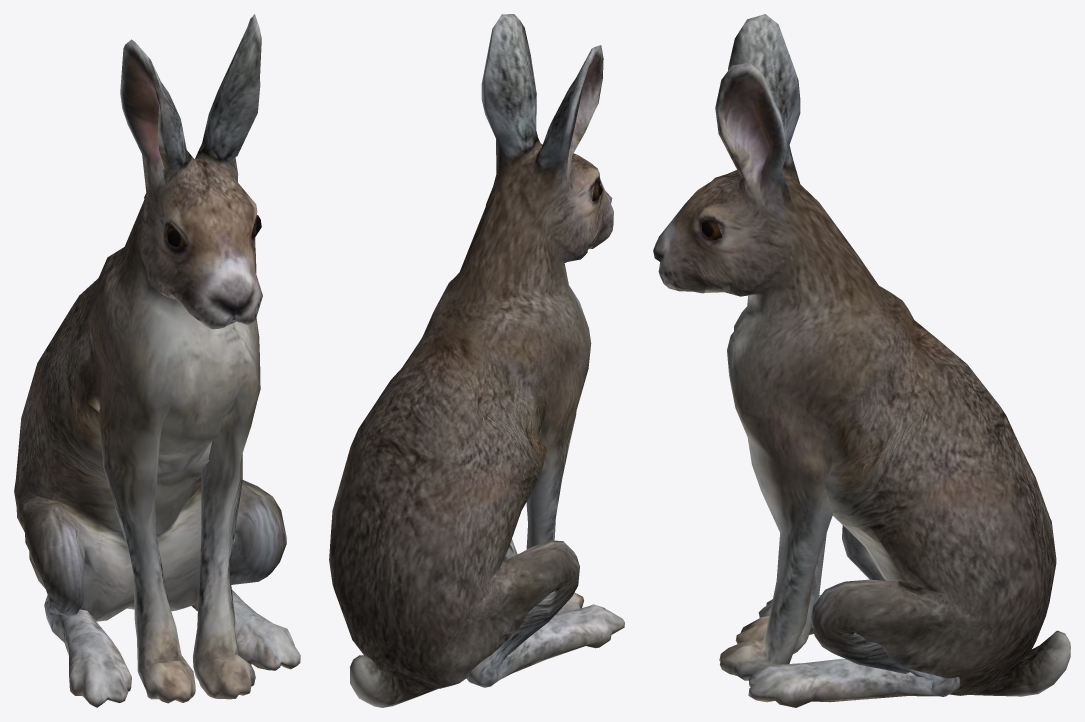
File: rabbit.glb
3 renders of one model, left to right at view 1: azimuth 30°, elevation 25°; view 2: azimuth 150°, elevation 25°; view 3: azimuth 270°, elevation 25°, orthographic. The views are drawn at different scales.
Parts seen in each view (by area): view 1: Rabbit001_applied_clean_M_Rabbit_0_M_Rabbit_0; view 2: Rabbit001_applied_clean_M_Rabbit_0_M_Rabbit_0; view 3: Rabbit001_applied_clean_M_Rabbit_0_M_Rabbit_0.
Part boxes in pixels (<box>): Rabbit001_applied_clean_M_Rabbit_0_M_Rabbit_0: <box>14,14,300,707</box>; Rabbit001_applied_clean_M_Rabbit_0_M_Rabbit_0: <box>329,14,624,707</box>; Rabbit001_applied_clean_M_Rabbit_0_M_Rabbit_0: <box>653,14,1070,707</box>.
Size of the model in its own units: 0.2373 by 0.6641 by 0.3953.
Materials: 1 (1 with a texture image).
